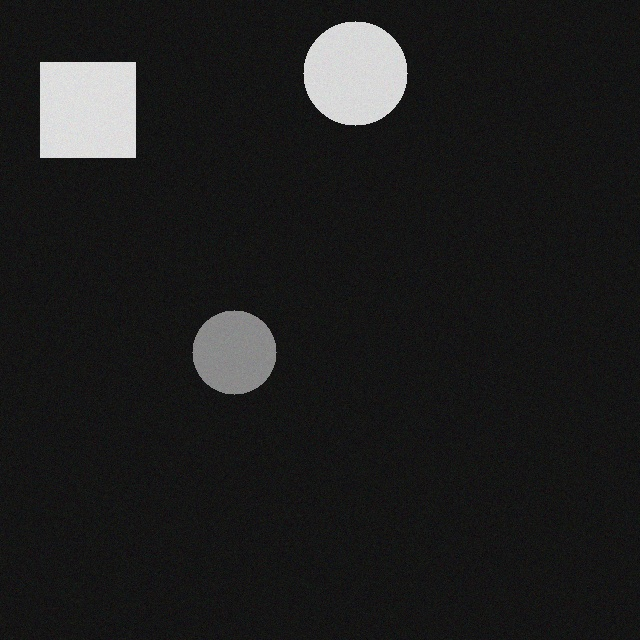circle: (309, 14, 413, 118), (198, 303, 282, 387)
square: (46, 55, 141, 150)
